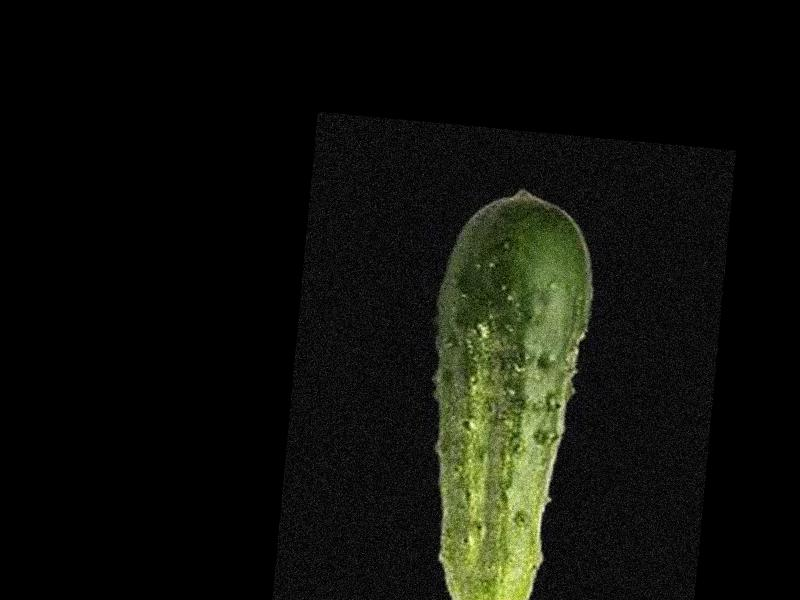Cucumber: (404, 183, 601, 600)
